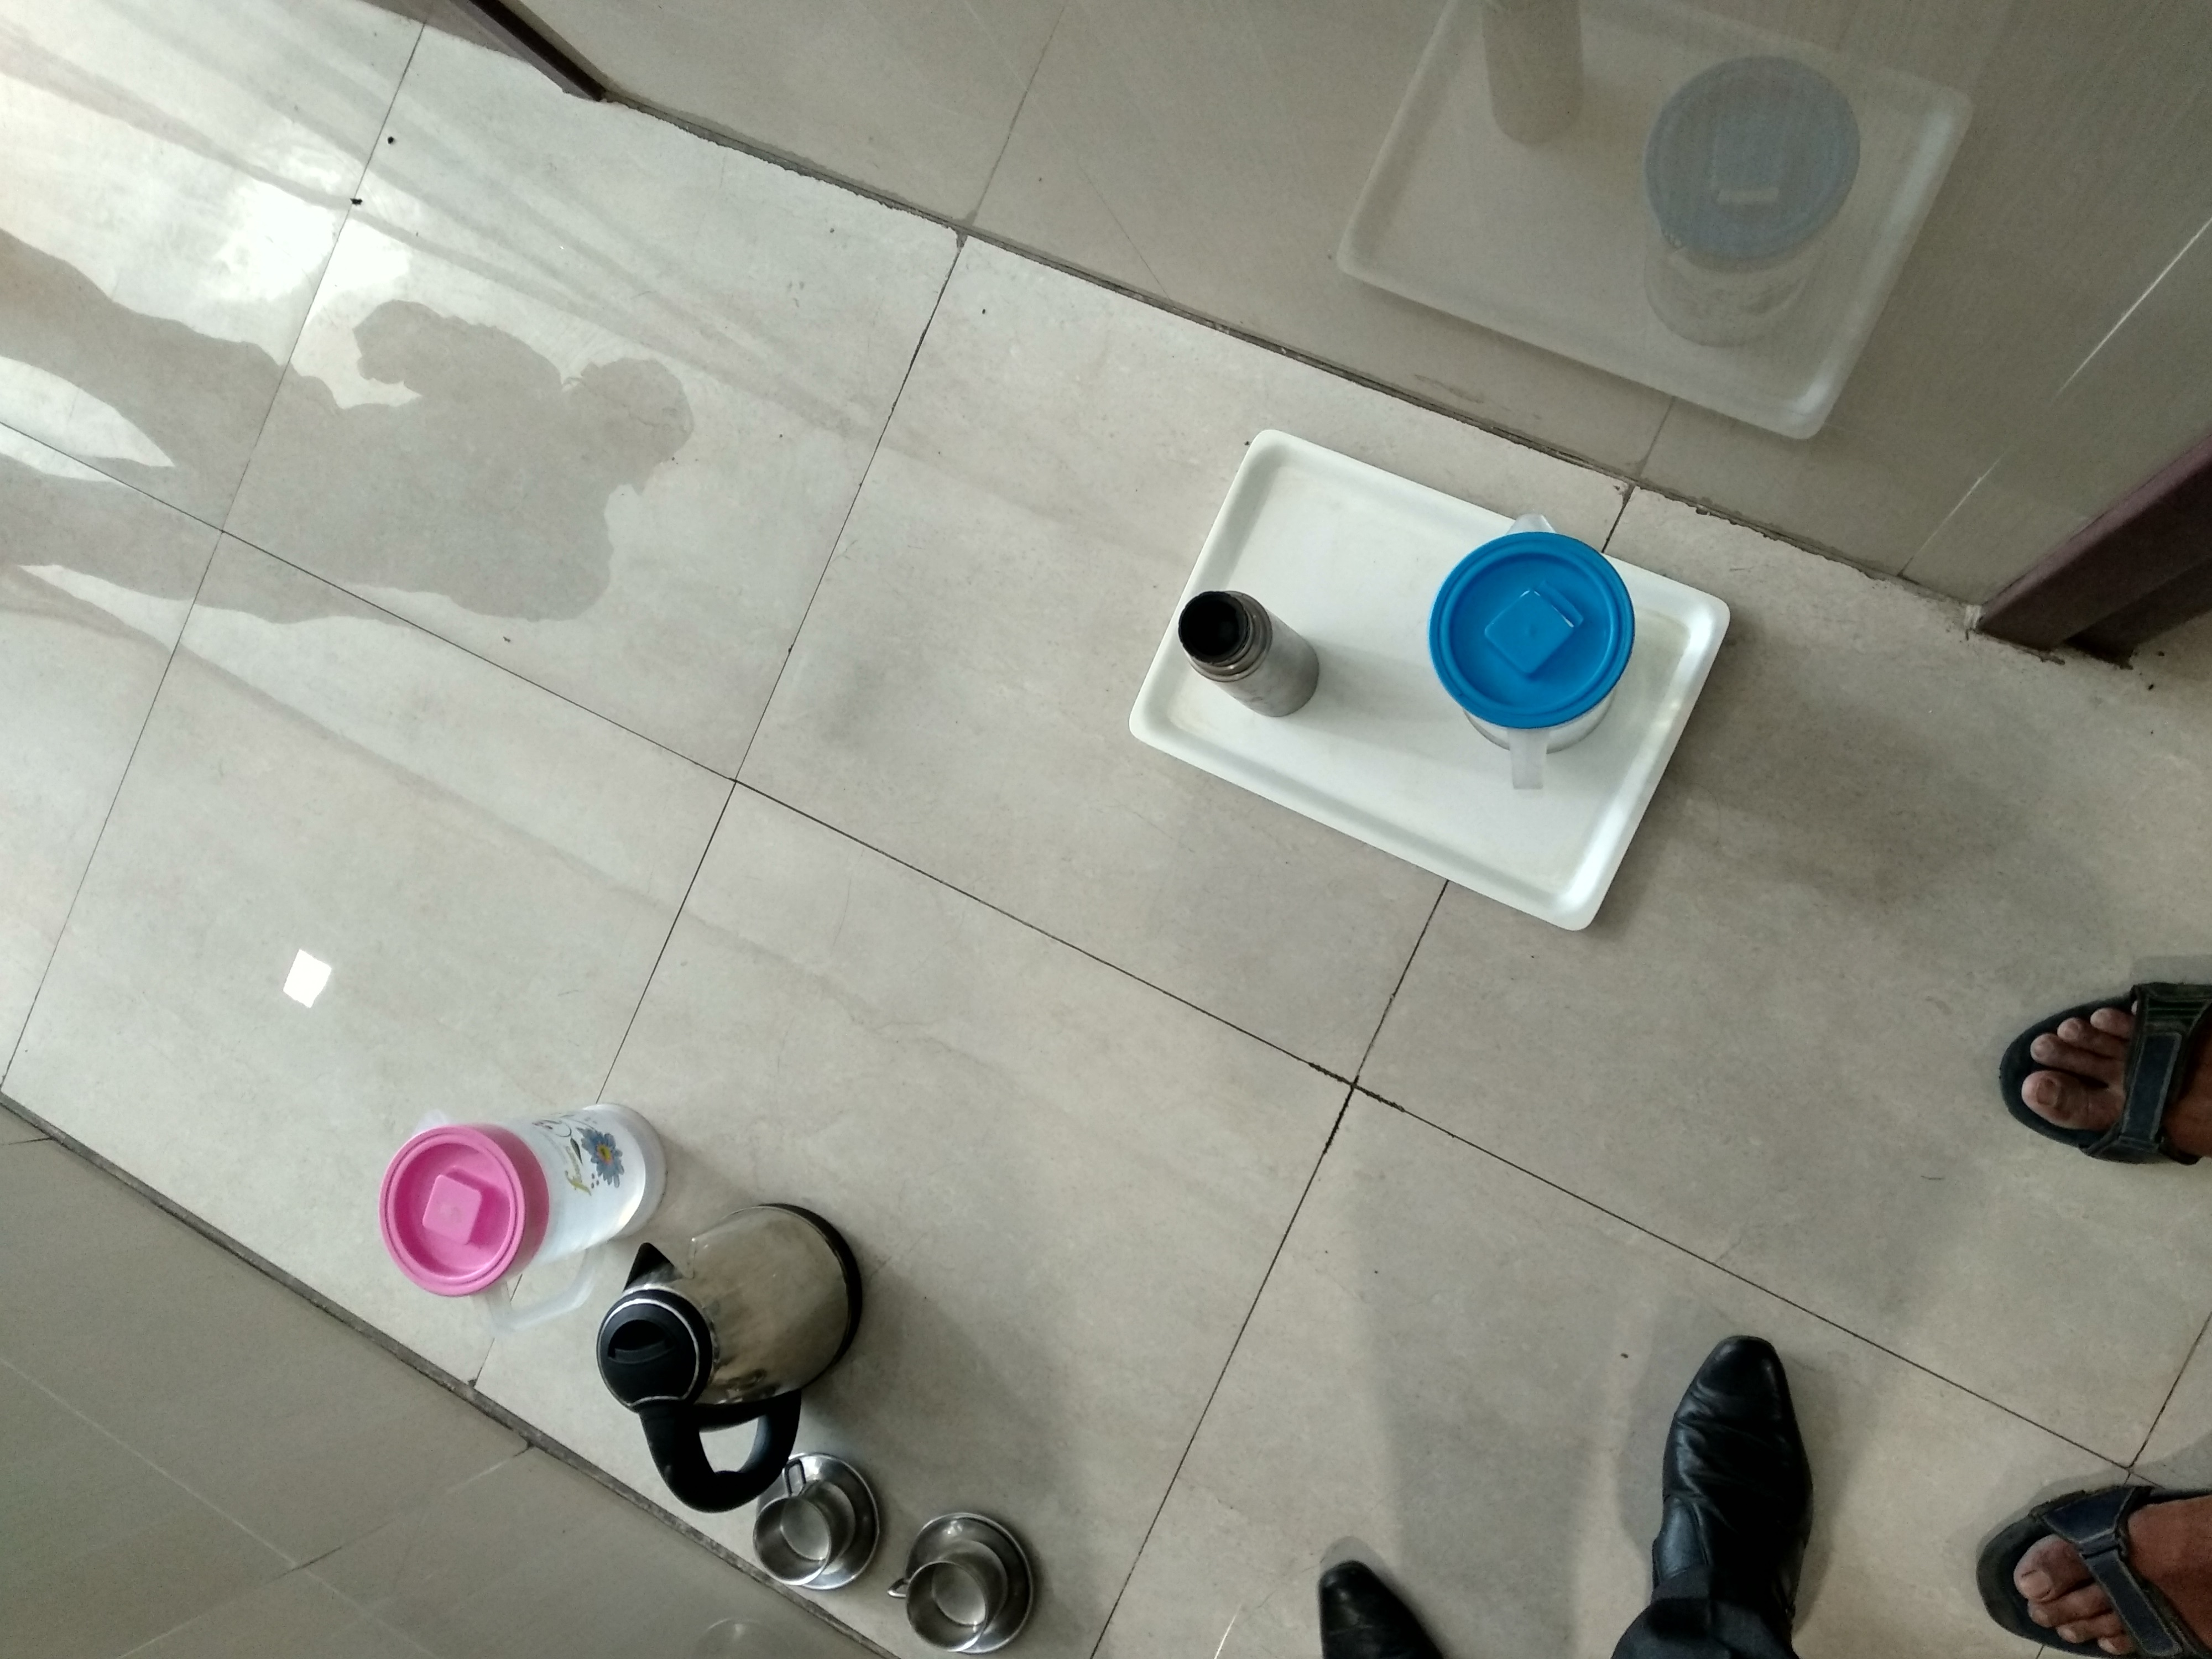CUP: (897, 1506, 1045, 1659), (745, 1471, 874, 1575)
FLASK: (1160, 577, 1343, 734)
JUG: (1414, 474, 1676, 823), (364, 1093, 657, 1302), (557, 1241, 852, 1420)
